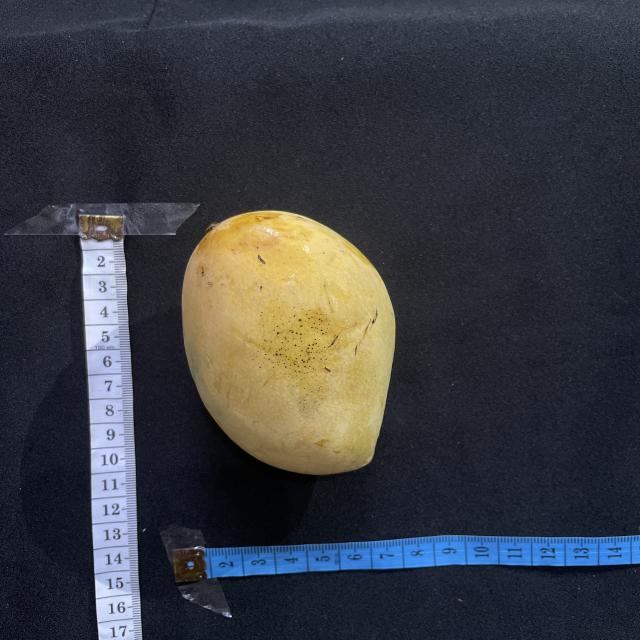Ripe: (182, 211, 395, 474)
